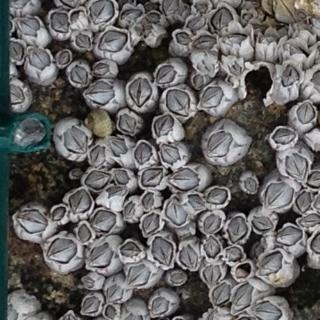Barnacle: (271, 0, 306, 27), (205, 129, 233, 157), (265, 183, 293, 209), (129, 77, 153, 107), (170, 169, 200, 192), (16, 211, 47, 233), (90, 0, 115, 27), (86, 80, 114, 104), (48, 239, 77, 262), (89, 243, 113, 270), (98, 30, 128, 51), (167, 89, 189, 117), (232, 282, 253, 311), (64, 127, 87, 153), (152, 238, 174, 265), (286, 153, 307, 181), (253, 300, 282, 320), (260, 251, 284, 275), (126, 264, 152, 286), (91, 211, 117, 233), (152, 114, 174, 140), (167, 198, 188, 224), (211, 7, 234, 30), (70, 190, 92, 214), (199, 87, 224, 107), (229, 217, 248, 242), (89, 143, 108, 168), (29, 47, 50, 69), (180, 244, 198, 269), (278, 227, 303, 245), (85, 171, 110, 189), (15, 18, 41, 35), (202, 235, 221, 258), (51, 12, 70, 35), (154, 66, 176, 85), (141, 169, 164, 187), (213, 283, 231, 305), (135, 143, 153, 165), (160, 144, 179, 164), (280, 65, 298, 86), (203, 264, 220, 286), (297, 101, 314, 123), (193, 35, 219, 49), (119, 114, 137, 134), (207, 188, 228, 205), (143, 213, 159, 235), (273, 128, 296, 143), (120, 242, 141, 258), (252, 215, 274, 230), (151, 298, 169, 316), (106, 284, 124, 302), (110, 137, 128, 155), (71, 65, 87, 85), (8, 40, 23, 61), (188, 193, 205, 211), (296, 191, 311, 211), (84, 295, 100, 313), (204, 214, 220, 232), (284, 43, 306, 56), (72, 6, 87, 25), (162, 0, 181, 15), (77, 224, 91, 244), (10, 83, 24, 103), (187, 17, 207, 30), (259, 31, 278, 44), (4, 304, 19, 320), (227, 247, 242, 263), (75, 34, 91, 49), (122, 9, 142, 21), (115, 168, 129, 185), (299, 215, 320, 226), (224, 33, 245, 44), (95, 63, 110, 77), (199, 59, 214, 73), (53, 206, 66, 221), (175, 31, 190, 44), (308, 172, 320, 188), (194, 2, 208, 15), (244, 177, 256, 192), (143, 193, 154, 209), (124, 202, 135, 217), (146, 12, 161, 23), (108, 187, 124, 196), (105, 306, 116, 319), (229, 62, 242, 73), (310, 17, 320, 31), (12, 0, 29, 8), (58, 52, 69, 64), (171, 273, 184, 283), (195, 75, 204, 88), (143, 25, 152, 37), (244, 11, 253, 20), (122, 0, 134, 5), (135, 26, 141, 33)
